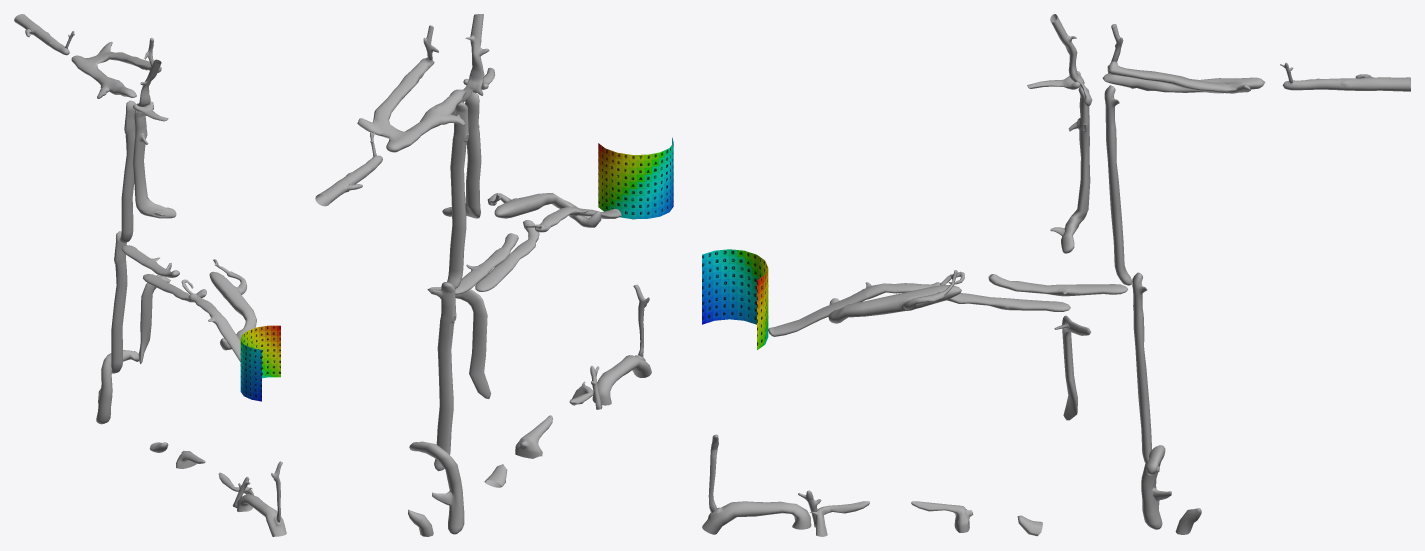
The model's file is Level_Detail_mesh_v2.fbx.
3 views of the same model, side by side, from view 1: azimuth 30°, elevation 25°; view 2: azimuth 150°, elevation 25°; view 3: azimuth 270°, elevation 25° (orthographic). The views are drawn at different scales.
Parts seen in each view (by area): view 1: pCylinder11, env_1_1b, env_4_1b, env_3_1b1, env_3_1b, lvl_2b_Ramp, pCylinder6, pCylinder5, lvl_2b_decline, Final_Base, env_1_1a, lvl_2A_Base (+3 smaller); view 2: pCylinder11, env_1_1b, env_3_1b1, env_3_1b, env_4_1b, pCylinder6, pCylinder5, lvl_2b_Ramp, pCylinder4, Final_Base, pCylinder12, lvl_2A_Base (+3 smaller); view 3: pCylinder11, env_1_1b, lvl_2b_Ramp, env_3_1b, env_3_1b1, env_4_1b, Final_Base, lvl_2b_decline, env_1_1a, lvl_2A_Base, pCylinder6, pCylinder4 (+2 smaller).
Boxes of the visible parts, bbox=[...] form: pCylinder11: bbox=[240, 325, 280, 401]; env_1_1b: bbox=[71, 41, 161, 98]; env_4_1b: bbox=[133, 112, 176, 218]; env_3_1b1: bbox=[111, 231, 127, 373]; env_3_1b: bbox=[120, 100, 137, 242]; lvl_2b_Ramp: bbox=[209, 266, 256, 350]; pCylinder6: bbox=[96, 350, 139, 424]; pCylinder5: bbox=[139, 263, 171, 364]; lvl_2b_decline: bbox=[188, 293, 240, 361]; Final_Base: bbox=[237, 494, 286, 536]; env_1_1a: bbox=[14, 14, 69, 55]; lvl_2A_Base: bbox=[121, 245, 179, 277]; pCylinder11: bbox=[598, 137, 673, 219]; env_1_1b: bbox=[357, 57, 466, 152]; env_3_1b1: bbox=[431, 282, 456, 471]; env_3_1b: bbox=[447, 101, 468, 288]; env_4_1b: bbox=[442, 92, 481, 218]; pCylinder6: bbox=[409, 441, 464, 534]; pCylinder5: bbox=[427, 287, 491, 398]; lvl_2b_Ramp: bbox=[487, 193, 601, 227]; pCylinder4: bbox=[475, 220, 539, 291]; Final_Base: bbox=[592, 355, 651, 405]; pCylinder12: bbox=[461, 14, 489, 102]; lvl_2A_Base: bbox=[455, 233, 518, 294]; pCylinder11: bbox=[702, 249, 768, 349]; env_1_1b: bbox=[1102, 61, 1265, 93]; lvl_2b_Ramp: bbox=[828, 284, 961, 323]; env_3_1b: bbox=[1104, 85, 1132, 285]; env_3_1b1: bbox=[1132, 272, 1159, 472]; env_4_1b: bbox=[1050, 87, 1090, 253]; Final_Base: bbox=[702, 501, 811, 534]; lvl_2b_decline: bbox=[768, 282, 940, 336]; env_1_1a: bbox=[1282, 74, 1410, 91]; lvl_2A_Base: bbox=[988, 274, 1127, 296]; pCylinder6: bbox=[1141, 445, 1171, 529]; pCylinder4: bbox=[946, 293, 1070, 311].
Size of the model in its own units: 85.34 by 445 by 542.
Materials: 3 (1 with a texture image).
